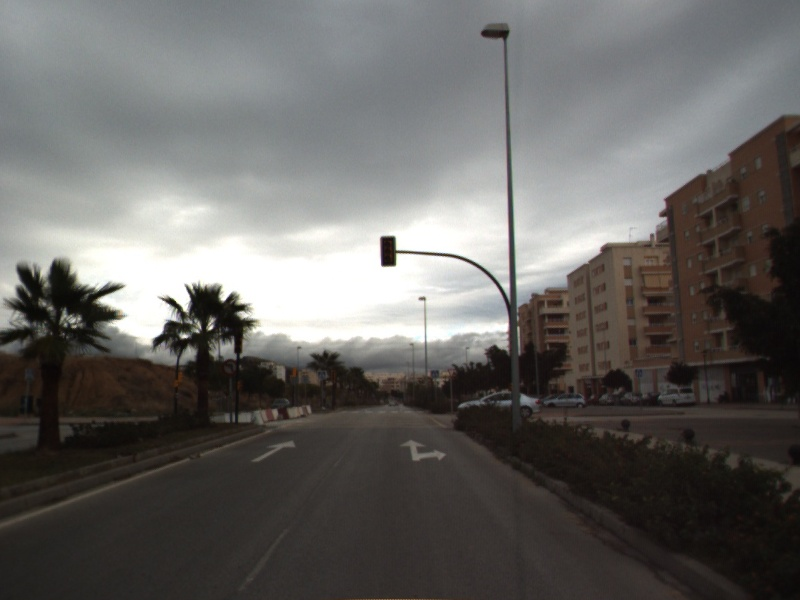STRAIGHT: (249, 438, 298, 464)
STRAIGHT_RIGHT: (397, 438, 449, 463)
